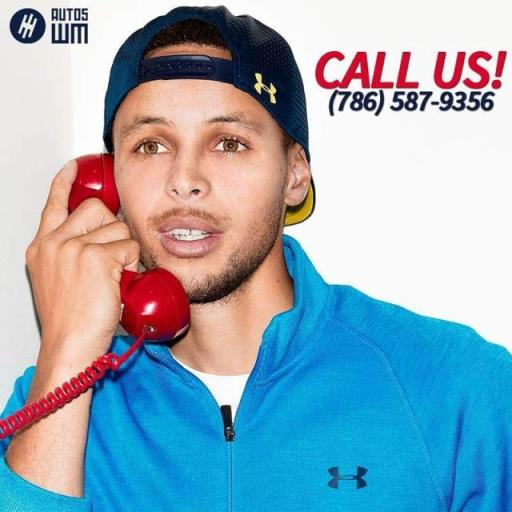Under Armour: (324, 461, 370, 493)
